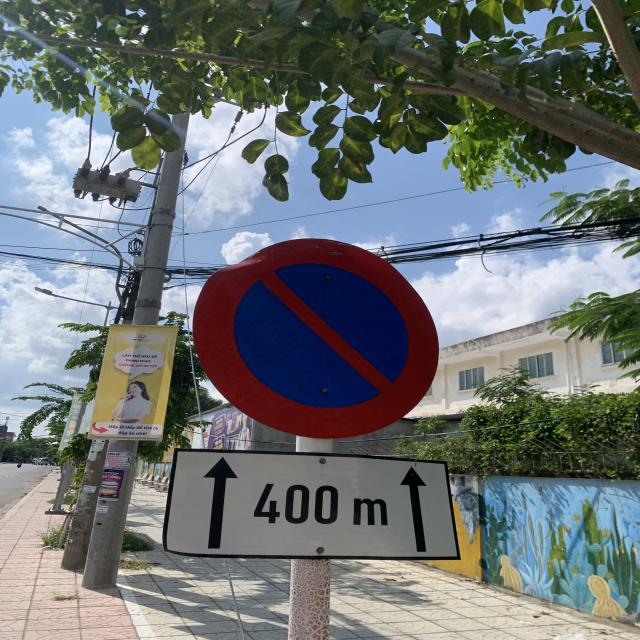Cam_Dau_Xe: (190, 236, 442, 438)
